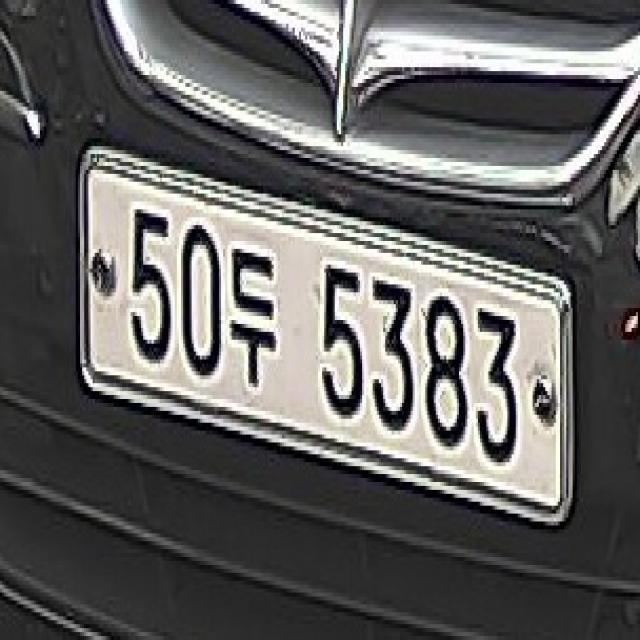0: (178, 215, 223, 382)
3: (474, 299, 520, 475), (370, 266, 414, 438)
5: (316, 248, 364, 430), (125, 194, 173, 370)
8: (422, 286, 469, 464)
du: (230, 235, 282, 396)
license_plate: (72, 128, 578, 560)
